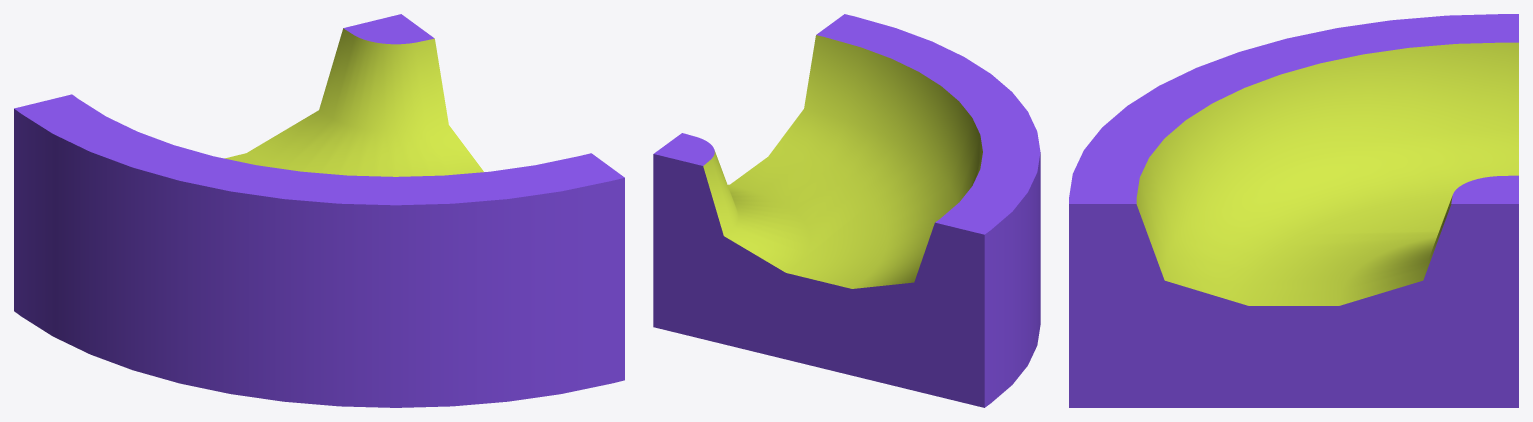
Rendered from corner.dae.
The picture shows the model from 3 angles, left to right: view 1: azimuth 30°, elevation 25°; view 2: azimuth 150°, elevation 25°; view 3: azimuth 270°, elevation 25°; orthographic projection. The views are drawn at different scales.
Visible parts, largest first — view 1: corner; view 2: corner; view 3: corner.
Boxes of the visible parts, bbox=[...] form: corner: bbox=[14, 14, 624, 407]; corner: bbox=[653, 14, 1040, 407]; corner: bbox=[1069, 14, 1518, 407].
Size of the model in its own units: 1 by 0.5 by 1.
